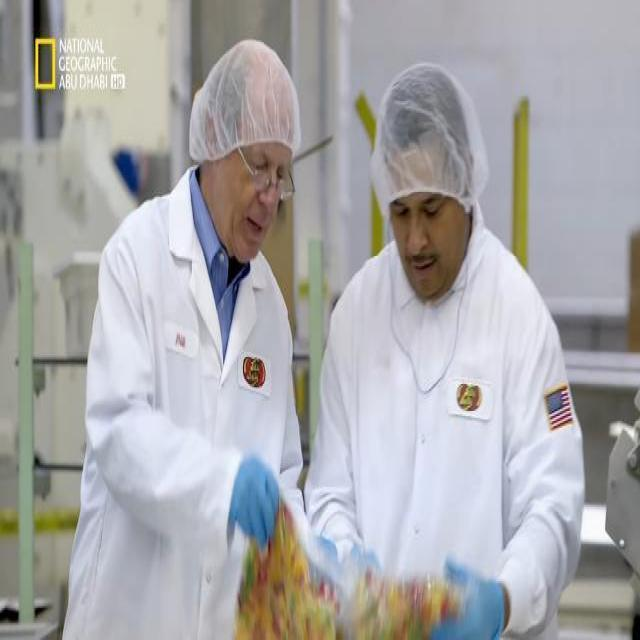gloved_hand: (221, 448, 289, 561), (437, 552, 524, 640)
